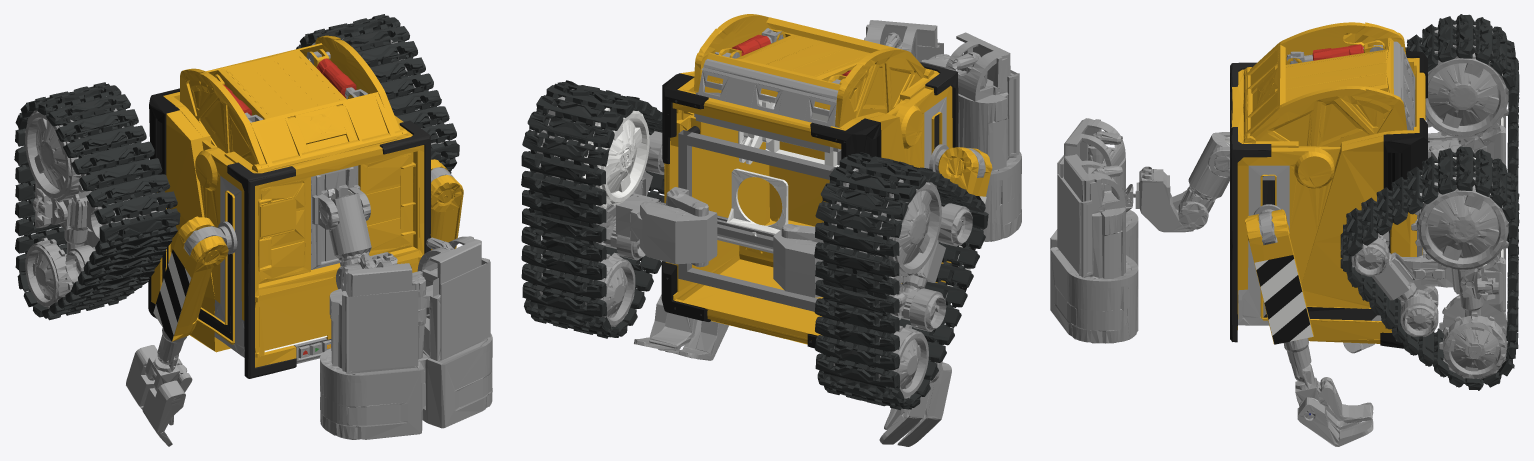
File: robot.obj
The picture shows the model from 3 angles, left to right: view 1: azimuth 30°, elevation 25°; view 2: azimuth 150°, elevation 25°; view 3: azimuth 270°, elevation 25°; orthographic projection. The views are drawn at different scales.
Bounding box in the file's own units: 809 × 780 × 951.
